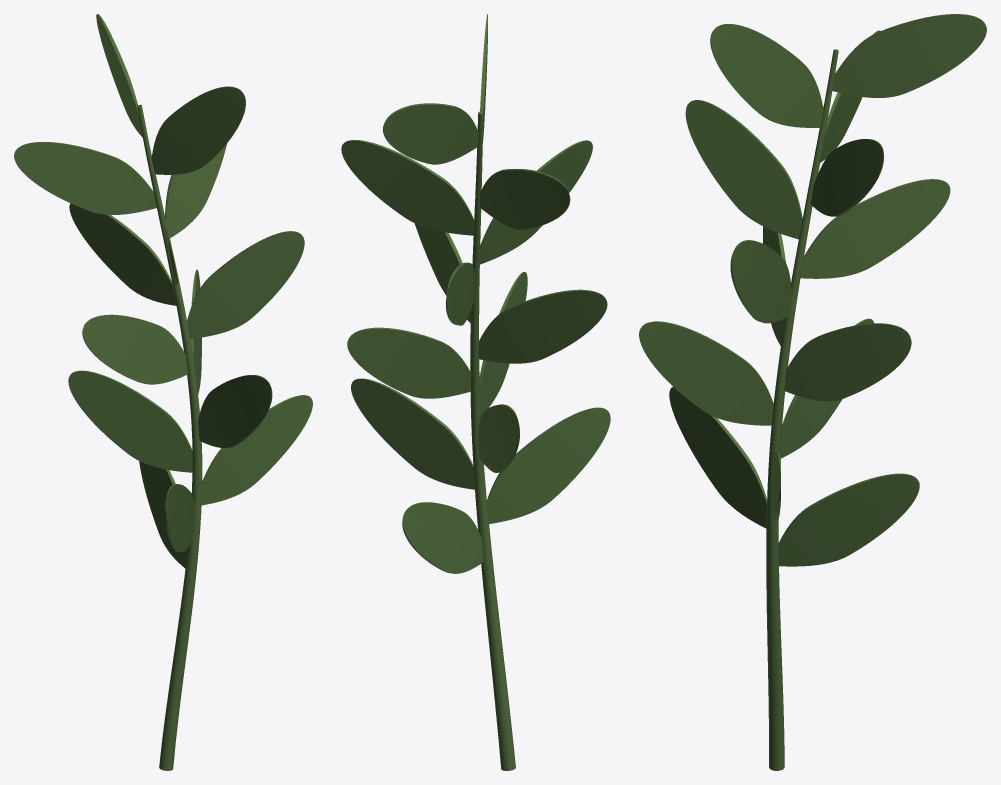
The model's file is dist_along.glb.
3 views of the same model, side by side, from view 1: azimuth 30°, elevation 25°; view 2: azimuth 150°, elevation 25°; view 3: azimuth 270°, elevation 25° (orthographic). The views are drawn at different scales.
Parts seen in each view (by area): view 1: leaf.001; view 2: leaf.001; view 3: leaf.001.
Part boxes in pixels (x1,y1,x2,y2): leaf.001: [14, 14, 312, 770]; leaf.001: [341, 14, 610, 770]; leaf.001: [639, 14, 986, 770].
Bounding box in the file's own units: 0.165 × 0.4281 × 0.176.
